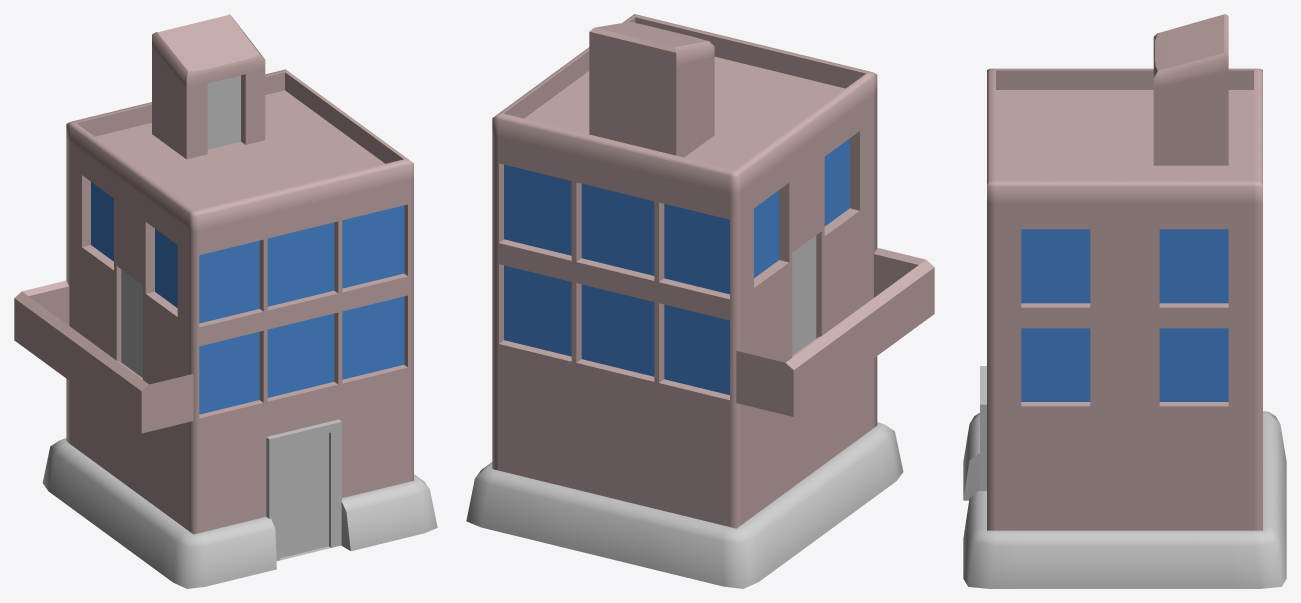
Rendered from Building_6.FBX.
3 renders of one model, left to right at view 1: azimuth 30°, elevation 25°; view 2: azimuth 150°, elevation 25°; view 3: azimuth 270°, elevation 25°, orthographic. The views are drawn at different scales.
Parts seen in each view (by area): view 1: Building 6; view 2: Building 6; view 3: Building 6.
Part boxes in pixels (x1,y1,x2,y2): Building 6: (14, 14, 437, 588); Building 6: (466, 14, 934, 588); Building 6: (963, 14, 1286, 588).
Bounding box in the file's own units: 528 × 778 × 469.
